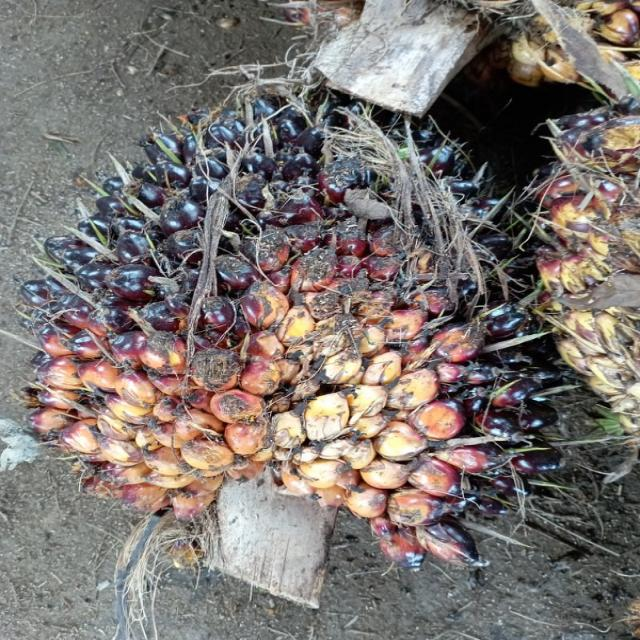fraksi 00: (32, 85, 552, 530)
